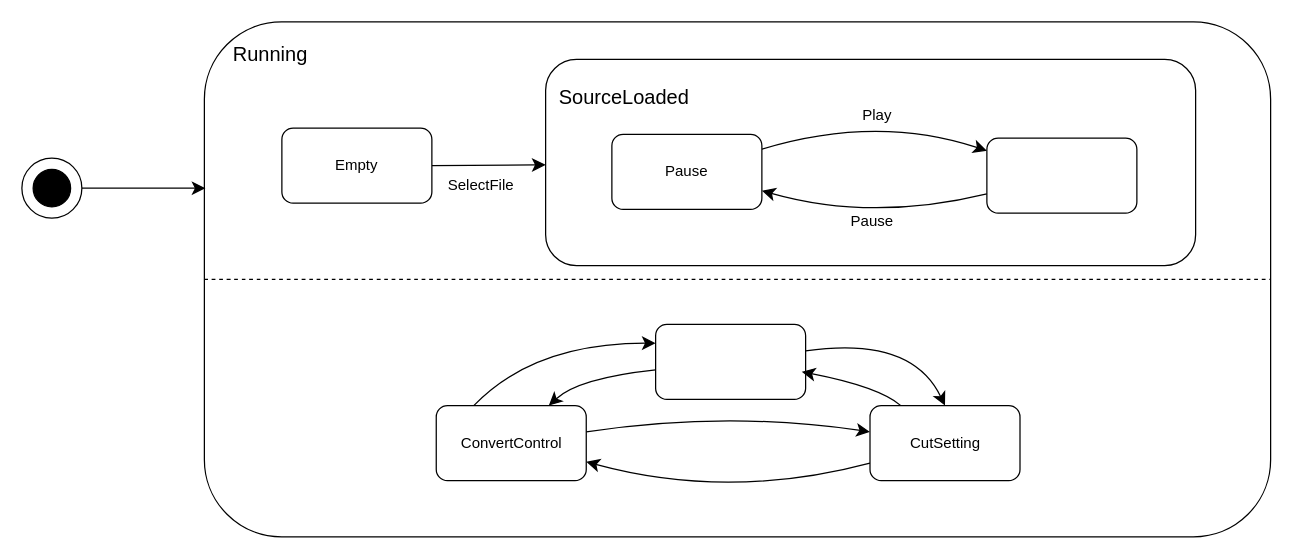
Some shapes in this 1294 by 559 pixel diagram are drawn without their labels. The shapes that lost their labels are listed below. From the top down, each one's box as (x1, y1, x2, y2) in pixels, then its label:
(986, 137, 1137, 213): Playing
(654, 323, 806, 399): CropSetting
